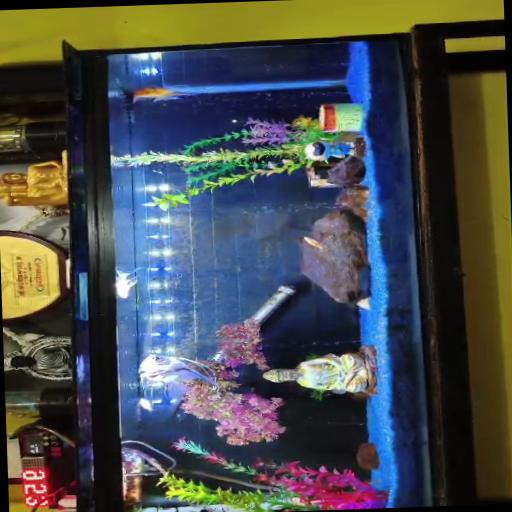Fish: (138, 354, 216, 414), (133, 88, 197, 103), (115, 268, 141, 298), (304, 237, 323, 249), (138, 398, 153, 410)
